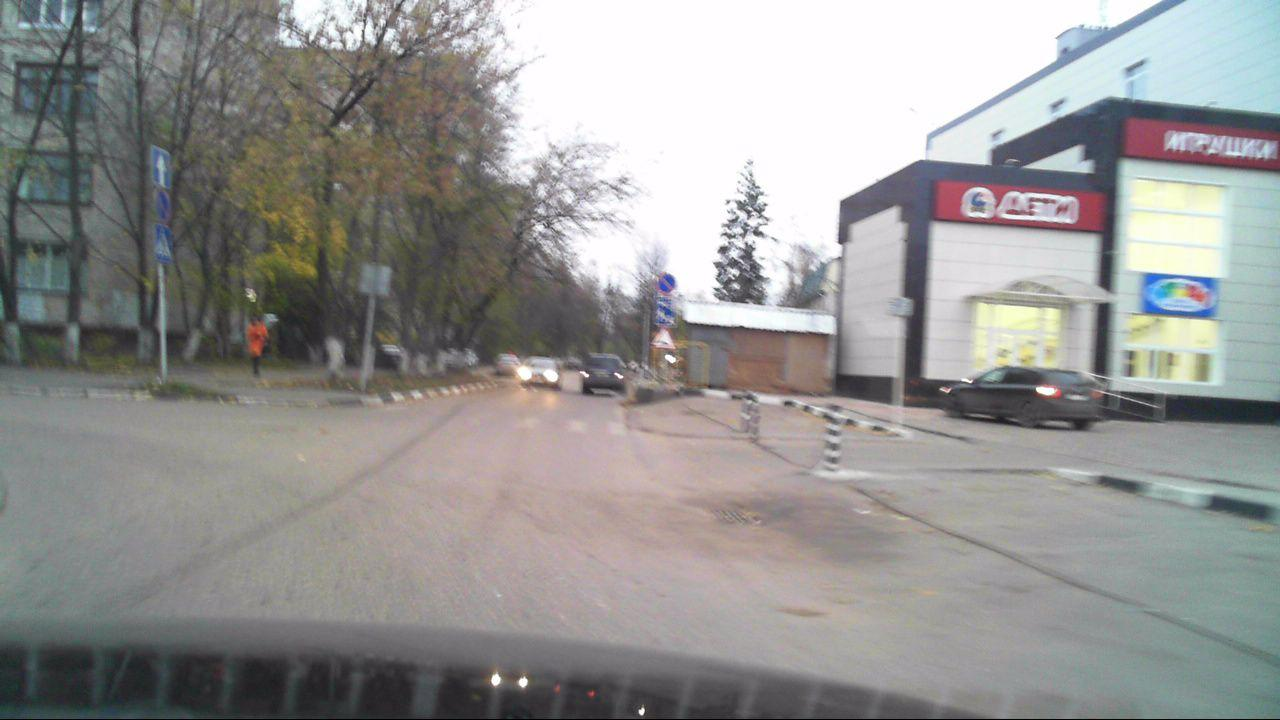1_17: (650, 329, 678, 352)
3_28: (150, 188, 174, 220), (654, 271, 676, 293)
5_19_1: (150, 222, 176, 265)
5_21: (655, 296, 675, 326)
5_5: (148, 144, 175, 184)
